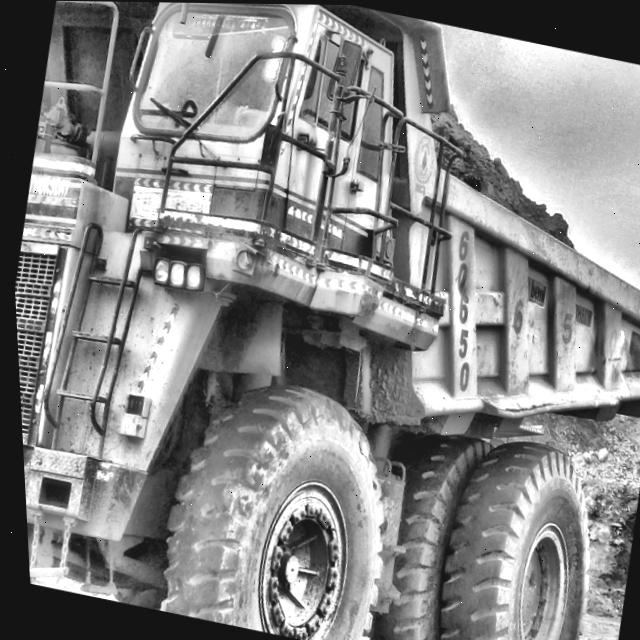dump_truck: (12, 1, 640, 640)
